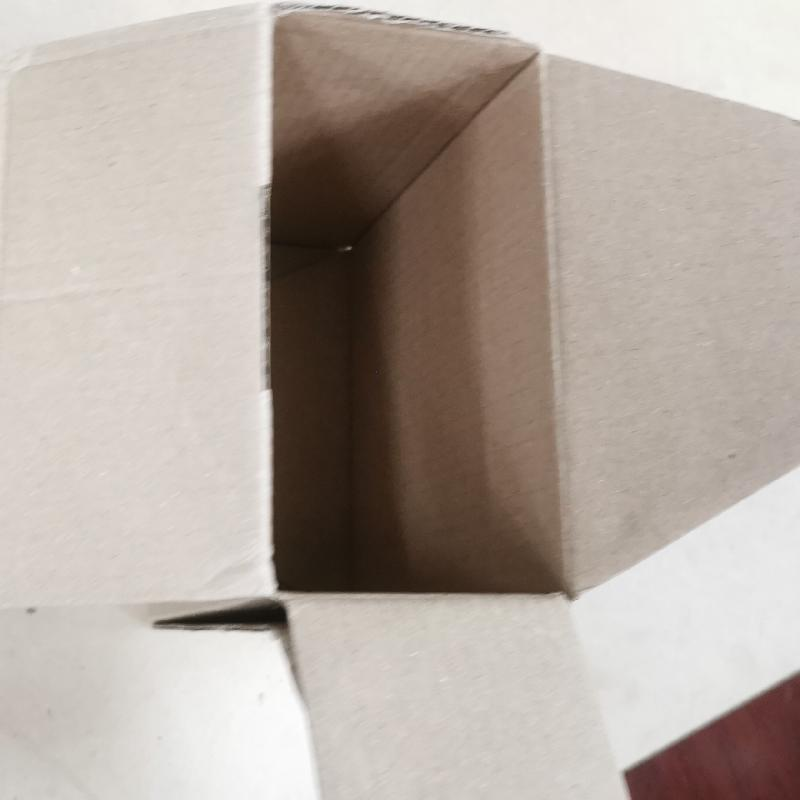boxes: (1, 5, 799, 783)
